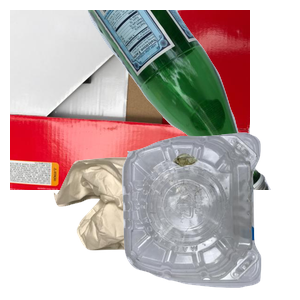cardboard: (10, 10, 250, 190)
glass: (75, 10, 300, 190)
plastic: (119, 130, 300, 300)
trash: (51, 155, 261, 300)
